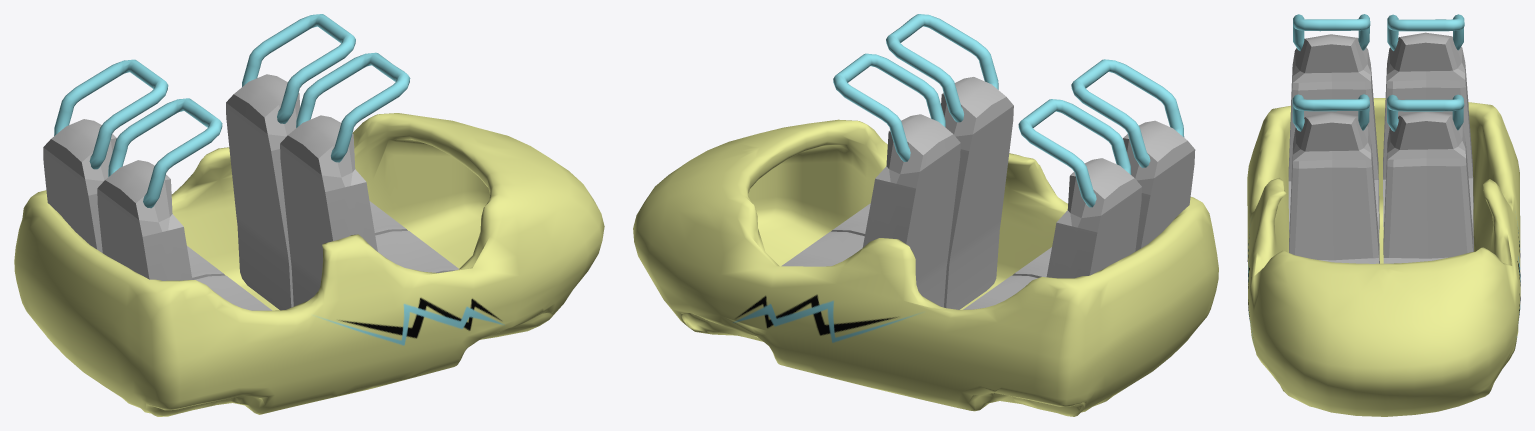
Rendered from Cart.obj.
The picture shows the model from 3 angles, left to right: view 1: azimuth 30°, elevation 25°; view 2: azimuth 150°, elevation 25°; view 3: azimuth 270°, elevation 25°; orthographic projection. The views are drawn at different scales.
Parts seen in each view (by area): view 1: Cart005, 1A_seats001, 1A_bar_back002, 1A_bar_back003; view 2: Cart005, 1A_seats001, 1A_bar_back002, 1A_bar_back003; view 3: Cart005, 1A_seats001, 1A_bar_back003, 1A_bar_back002.
Boxes of the visible parts, x1,y1,x2,y2 form: Cart005: (14, 113, 604, 416); 1A_seats001: (43, 74, 458, 310); 1A_bar_back002: (54, 59, 222, 208); 1A_bar_back003: (242, 14, 410, 162); Cart005: (633, 119, 1218, 416); 1A_seats001: (781, 77, 1195, 309); 1A_bar_back002: (1018, 59, 1184, 207); 1A_bar_back003: (833, 14, 998, 161); Cart005: (1247, 98, 1520, 416); 1A_seats001: (1288, 32, 1473, 263); 1A_bar_back003: (1292, 94, 1464, 131); 1A_bar_back002: (1293, 14, 1464, 50).
Bounding box in the file's own units: 0.034 × 0.0179 × 0.0177.
1 material, 1 textured.
